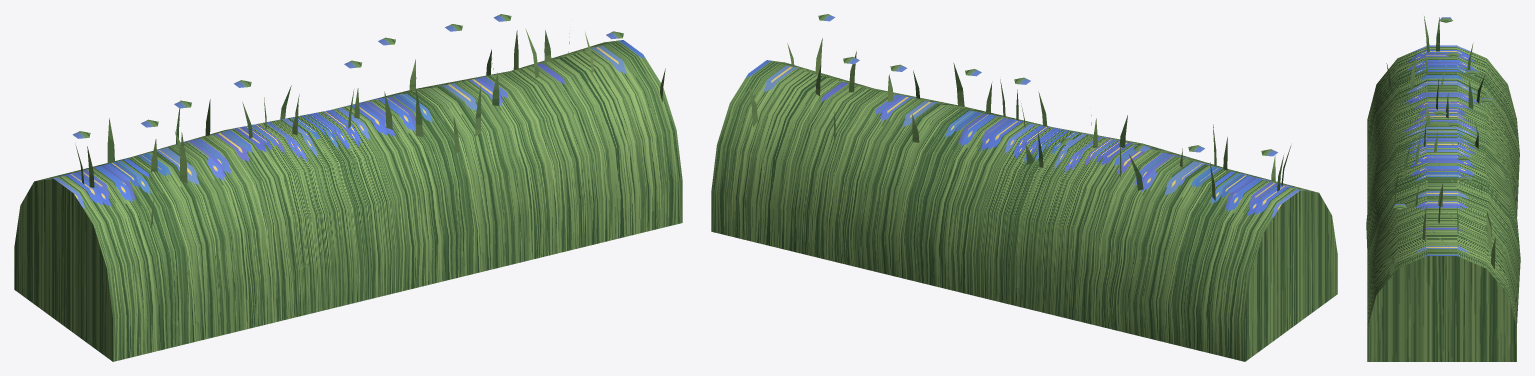
The model's file is SE_Crop_Flax.glb.
3 renders of one model, left to right at view 1: azimuth 30°, elevation 25°; view 2: azimuth 150°, elevation 25°; view 3: azimuth 270°, elevation 25°, orthographic. The views are drawn at different scales.
Parts seen in each view (by area): view 1: SE_Crop_Flax; view 2: SE_Crop_Flax; view 3: SE_Crop_Flax.
Part boxes in pixels (left/top/right/bottom): SE_Crop_Flax: left=14, top=14, right=682, bottom=361; SE_Crop_Flax: left=711, top=14, right=1337, bottom=361; SE_Crop_Flax: left=1366, top=16, right=1520, bottom=361.
Bounding box in the file's own units: 2 × 0.6704 × 0.62.
1 material, 1 textured.
